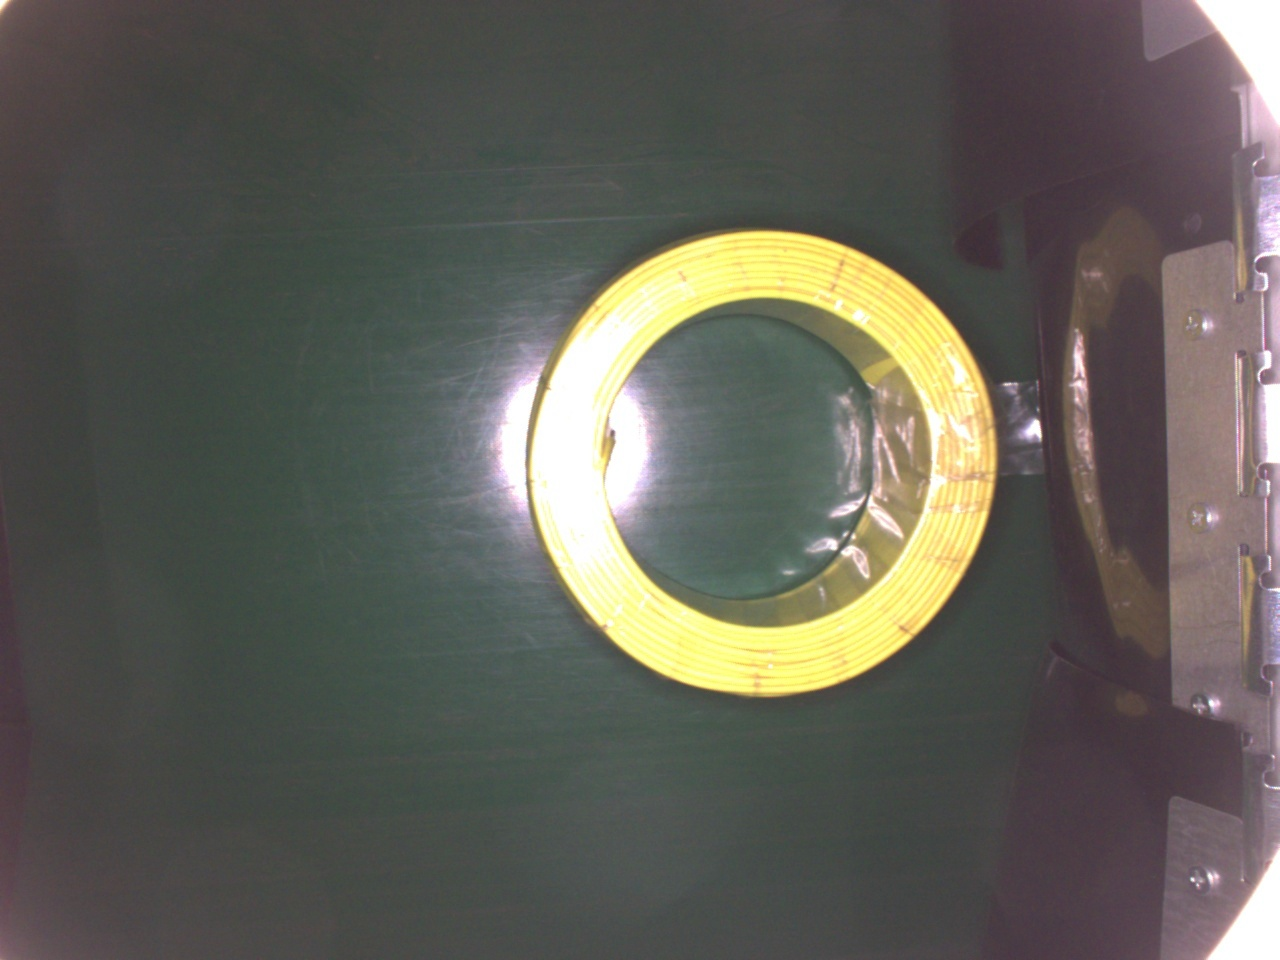yellow: (522, 226, 998, 698)
